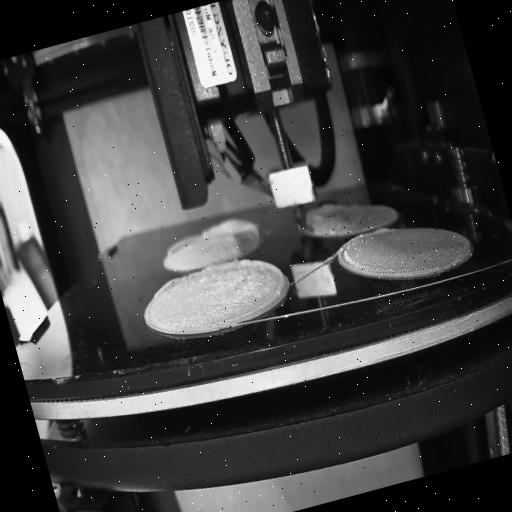over_extrusion: (210, 248, 296, 334), (194, 209, 264, 260), (163, 230, 197, 258), (150, 274, 182, 297), (316, 196, 343, 218), (373, 224, 393, 238)
